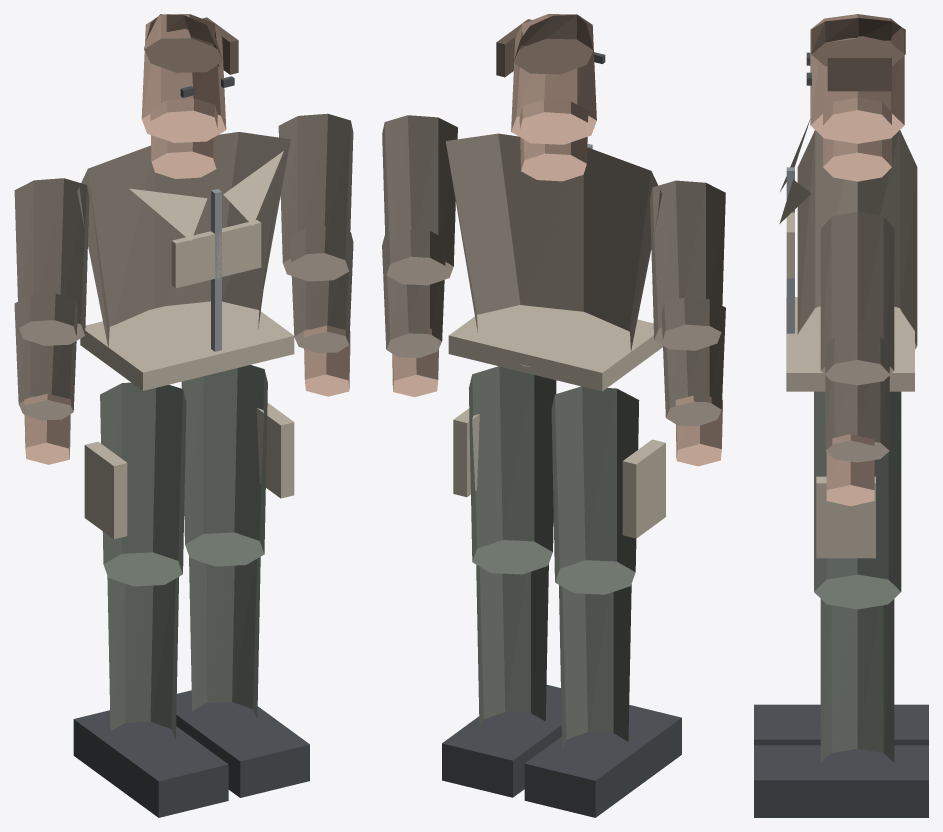
Rendered from mystery_character_cedar.glb.
3 views of the same model, side by side, from view 1: azimuth 30°, elevation 25°; view 2: azimuth 150°, elevation 25°; view 3: azimuth 270°, elevation 25° (orthographic). The views are drawn at different scales.
Parts seen in each view (by area): view 1: Jacket, Thigh.R, Thigh.L, Hem, Shoe.L, UpperArm.R, UpperArm.L, Shin.R, Shin.L, Shoe.R, Head, Forearm.L (+11 smaller); view 2: Jacket, Thigh.R, Thigh.L, Hem, UpperArm.R, Shoe.L, UpperArm.L, Shin.L, Shin.R, Shoe.R, Forearm.L, Head (+8 smaller); view 3: Shoe.R, Jacket, Shin.R, UpperArm.R, Thigh.R, Forearm.R, Head, Hem, Shoe.L, Pocket.R, Neck, Hair (+6 smaller).
Boxes of the visible parts, x1,y1,x2,y2 form: Jacket: [77, 132, 290, 347]; Thigh.R: [181, 365, 267, 566]; Thigh.L: [100, 382, 186, 586]; Hem: [80, 301, 294, 390]; Shoe.L: [73, 710, 228, 817]; UpperArm.R: [278, 113, 353, 281]; UpperArm.L: [14, 178, 89, 345]; Shin.R: [189, 556, 260, 719]; Shin.L: [107, 576, 178, 739]; Shoe.R: [176, 690, 309, 797]; Head: [141, 14, 226, 142]; Forearm.L: [14, 293, 77, 420]; Jacket: [445, 133, 662, 366]; Thigh.R: [468, 366, 556, 574]; Thigh.L: [551, 386, 639, 594]; Hem: [448, 305, 662, 391]; UpperArm.R: [382, 115, 457, 285]; Shoe.L: [524, 705, 681, 817]; UpperArm.L: [650, 180, 725, 350]; Shin.L: [559, 584, 631, 749]; Shin.R: [476, 564, 548, 730]; Shoe.R: [442, 685, 561, 797]; Forearm.L: [661, 297, 725, 426]; Head: [511, 14, 596, 144]; Shoe.R: [754, 745, 928, 817]; Jacket: [797, 130, 917, 349]; Shin.R: [820, 599, 894, 762]; UpperArm.R: [820, 211, 894, 385]; Thigh.R: [814, 404, 901, 609]; Forearm.R: [825, 332, 889, 462]; Head: [810, 14, 904, 143]; Hem: [786, 297, 914, 391]; Shoe.L: [754, 704, 928, 745]; Pocket.R: [816, 476, 875, 558]; Neck: [823, 97, 891, 181]; Hair: [811, 18, 905, 66].
Size of the model in its own units: 0.86 by 1.8 by 0.38.
